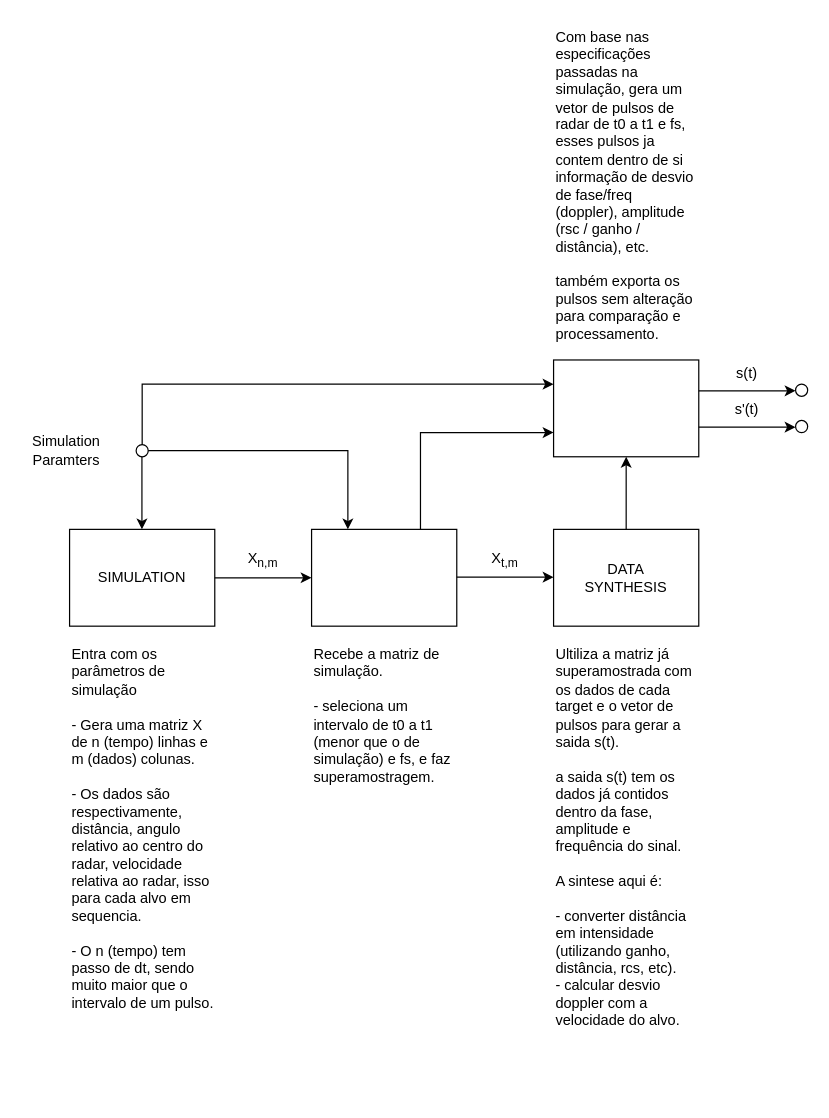
Some shapes in this 829 by 1118 pixel diagram are drawn without their labels. Here are the shapes that lost their labels. From the top down, the centre of each, then its label:
At point 625,408: "PULSE GENERATION".
At point 383,577: "UPSAMPLING".
